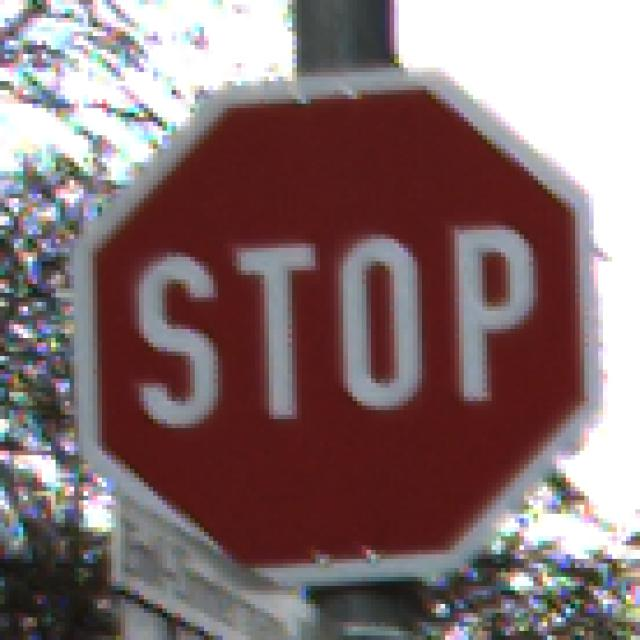STOP: (57, 55, 585, 582)
